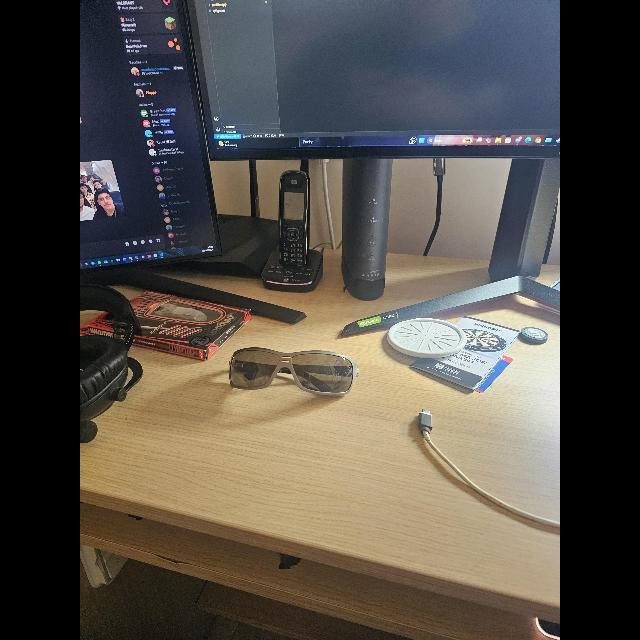Sunglasses: (230, 348, 358, 396)
